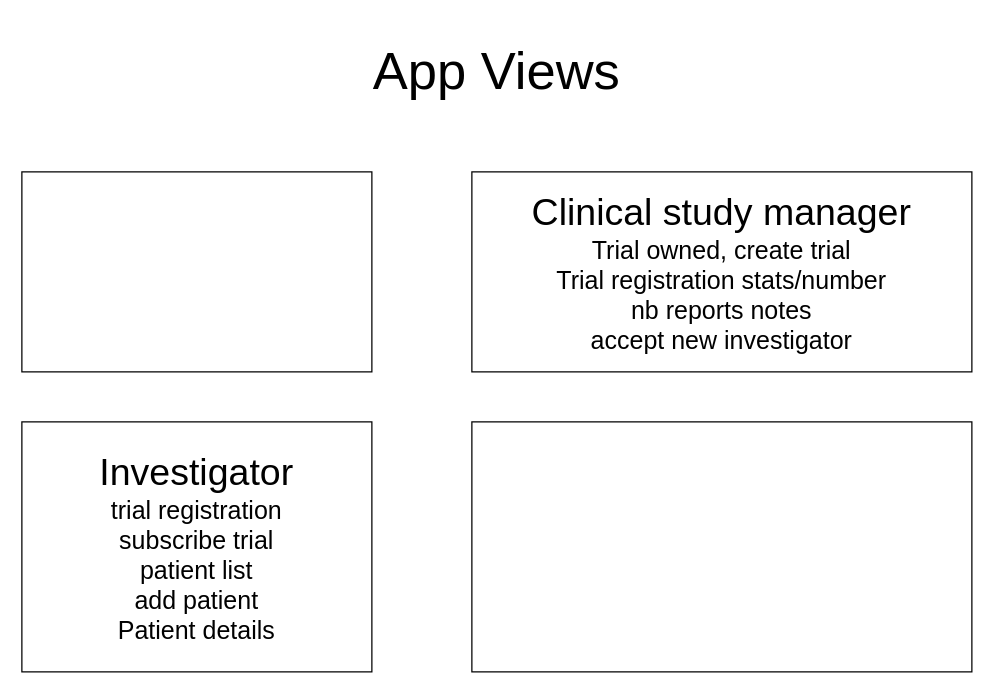
The diagram is 994 pixels wide and 694 high, and some of its shapes have lost their labels. The box of each missing label's shape, as (x1, y1, x2, y2) in pixels:
Patient trial registration confirm medication report status/feeling/remark: (471, 421, 972, 672)
Reception Authentication Enrolment: (21, 171, 372, 372)
